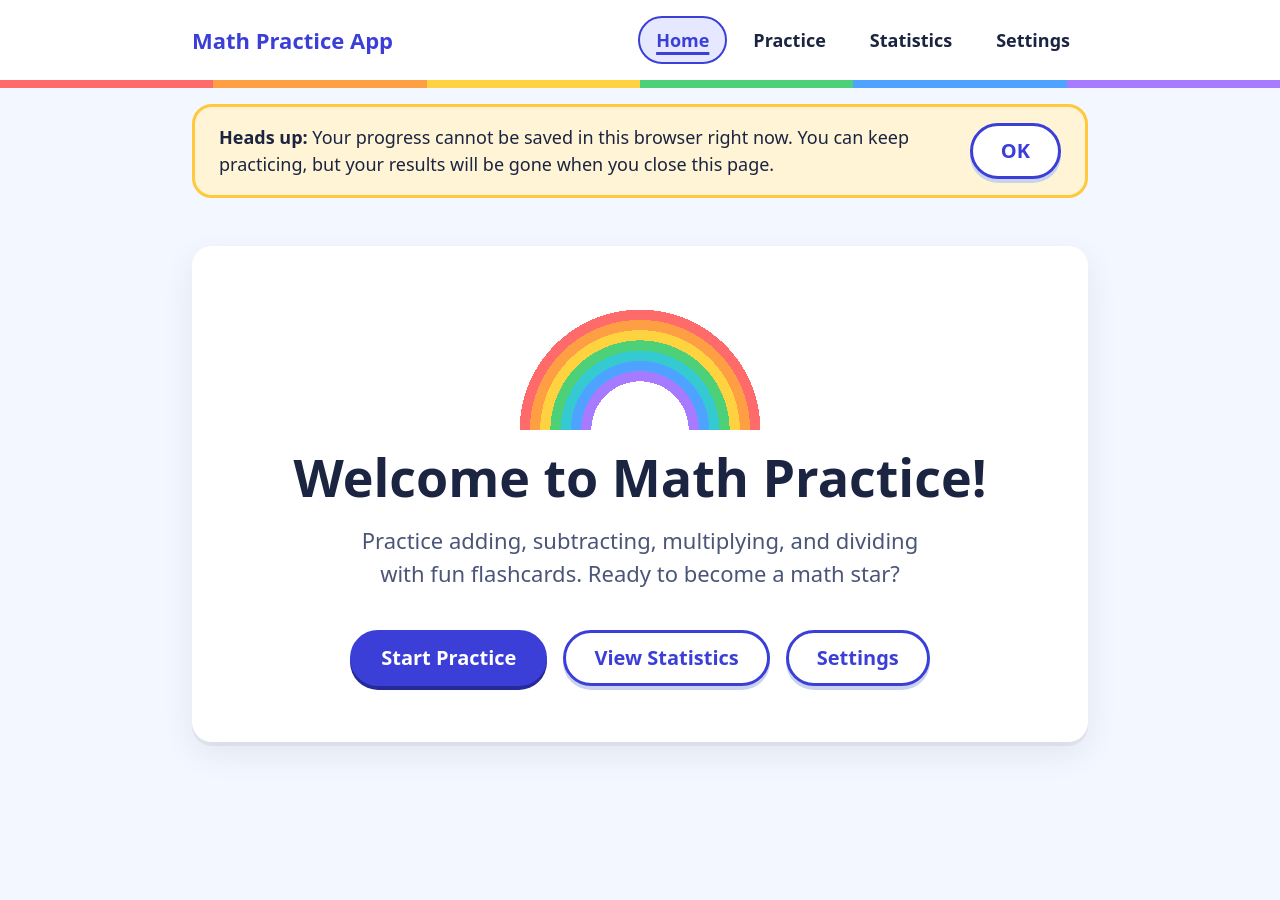
StorageWarning › when storage is unavailable › can be dismissed with an OK button, and then goes away
Click the button "OK": (1015, 151) [970, 123, 1061, 179]
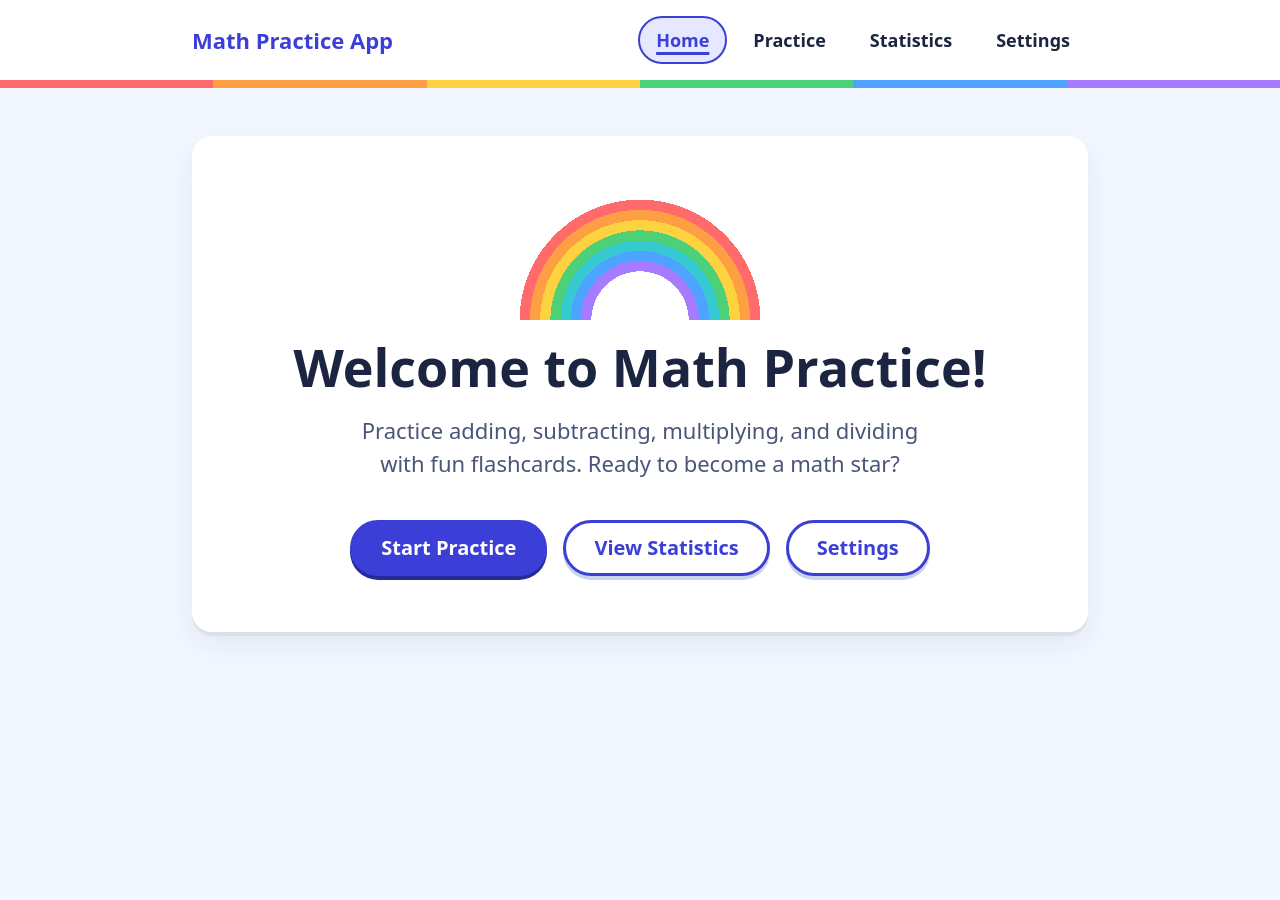
expect the message "Heads up: Your progress cannot be saved in this browser right now. You can keep" is gone: met
